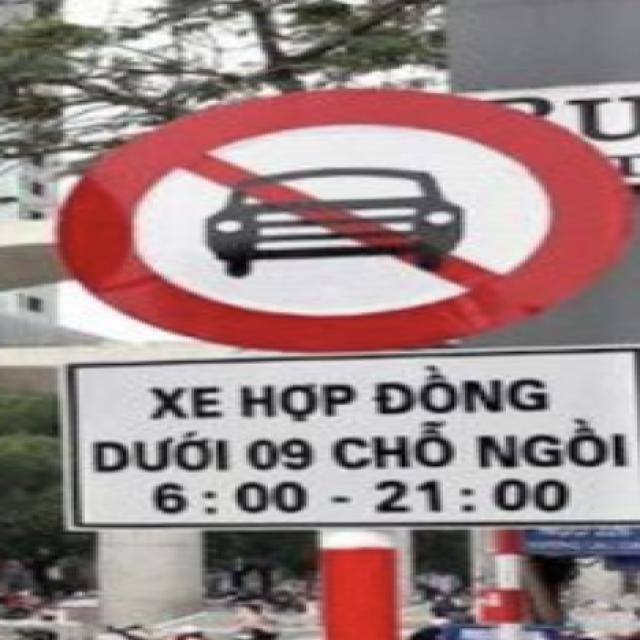103a-cam-oto: (48, 96, 640, 348)
